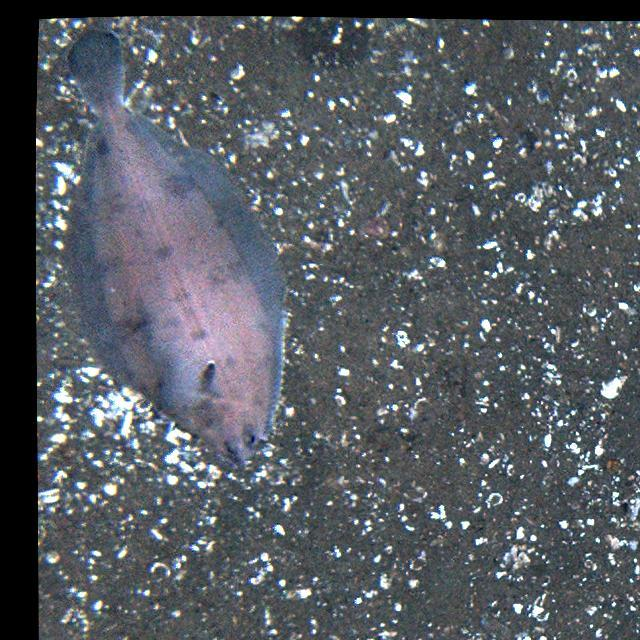flatfish: (56, 26, 302, 470)
